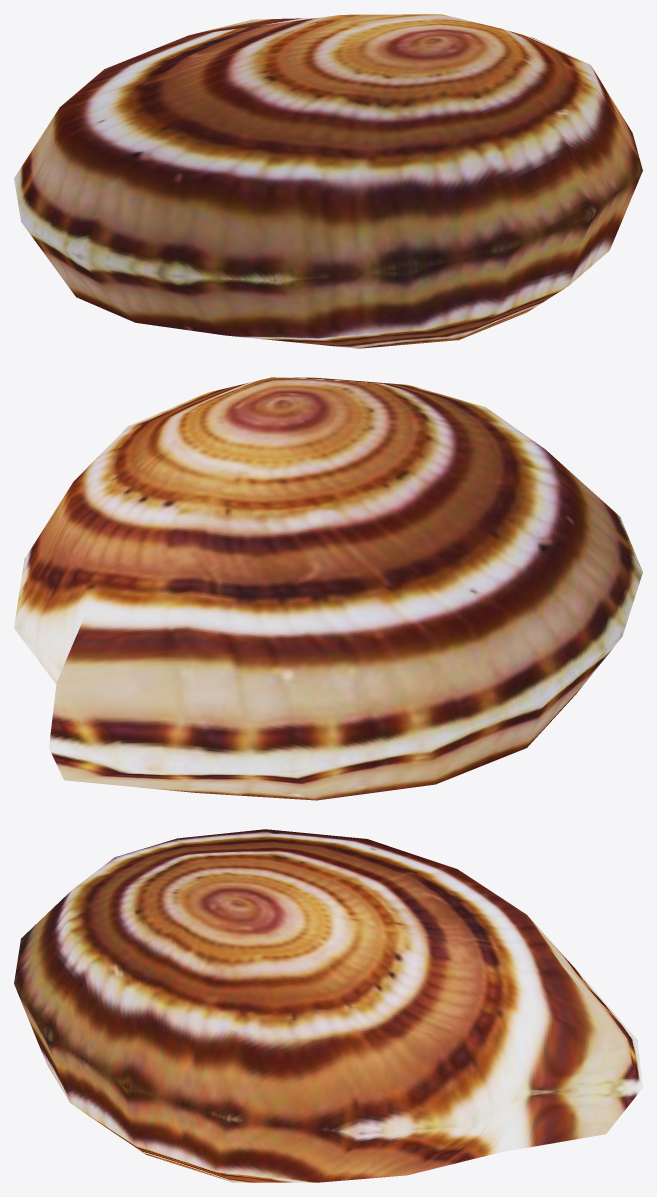
File: SeaShell-11_LOD0_FattooCreater.glb
The picture shows the model from 3 angles, top to bottom: view 1: azimuth 30°, elevation 25°; view 2: azimuth 150°, elevation 25°; view 3: azimuth 270°, elevation 25°; orthographic projection. The views are drawn at different scales.
Parts seen in each view (by area): view 1: SeaShell-11_high; view 2: SeaShell-11_high; view 3: SeaShell-11_high.
Boxes of the visible parts, box(x1,y1,x2,y2) form: SeaShell-11_high: box(14, 14, 642, 348); SeaShell-11_high: box(14, 377, 642, 800); SeaShell-11_high: box(14, 829, 642, 1182).
Bounding box in the file's own units: 0.0215 × 0.0105 × 0.0231.
Materials: 1 (1 with a texture image).
